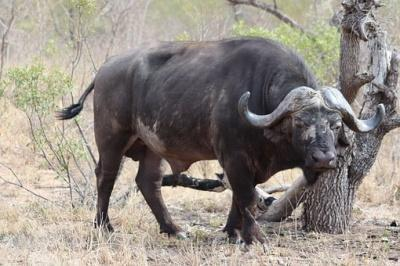buffalo: (55, 37, 380, 249)
